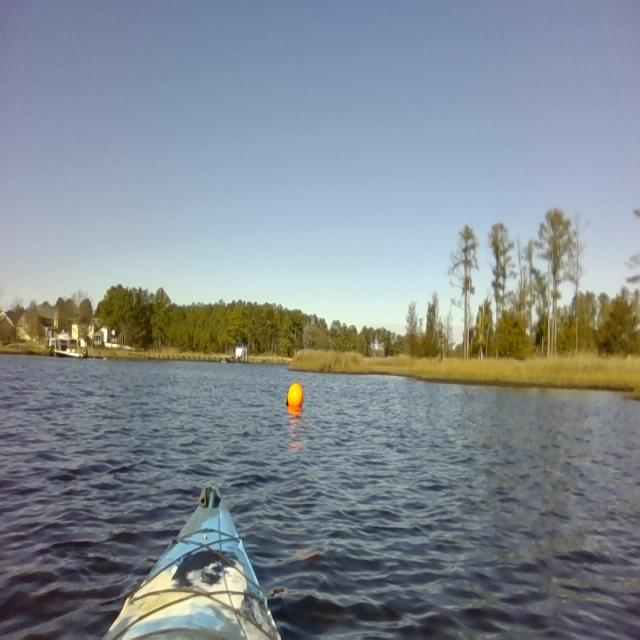Buoy: (284, 378, 307, 423)
